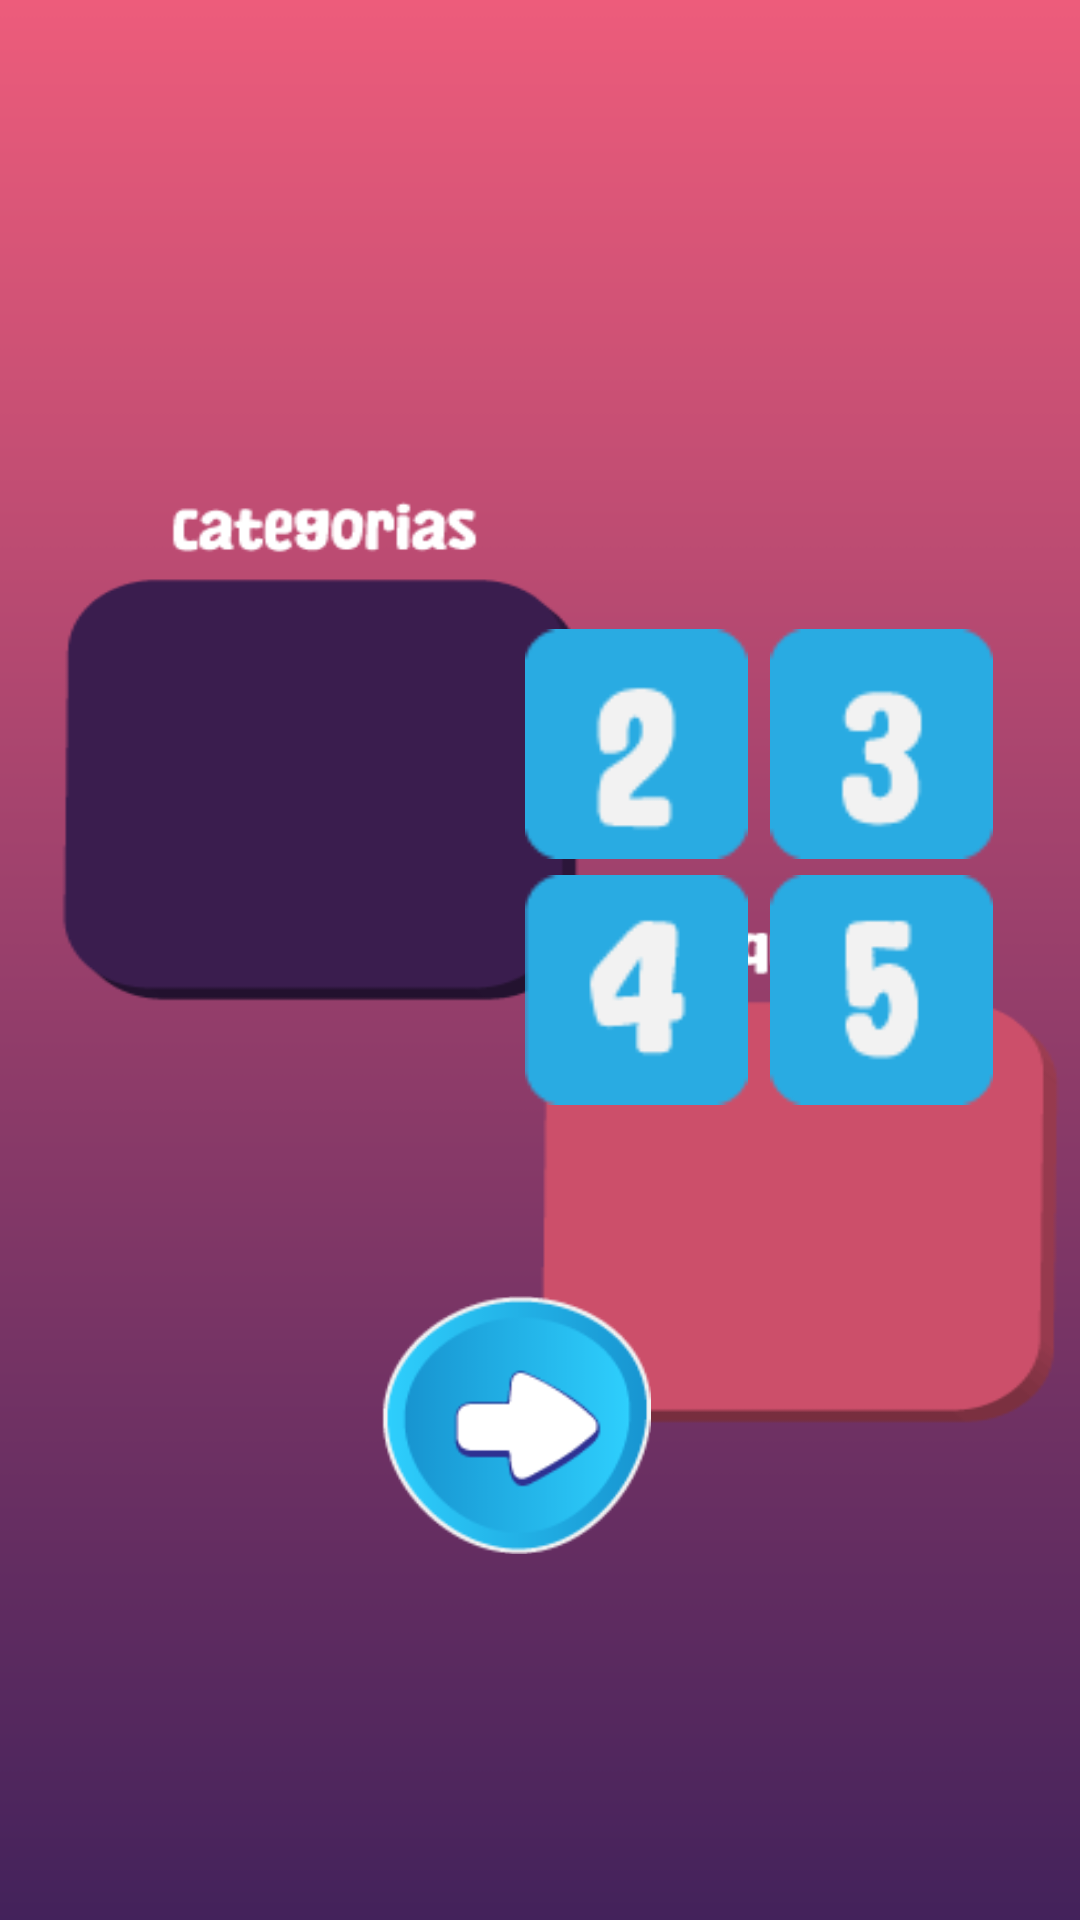

Where icons sit on this 1080px x 1920px app screen, as (x1, y1, x2, y2):
incio: (382, 1290, 651, 1554)
